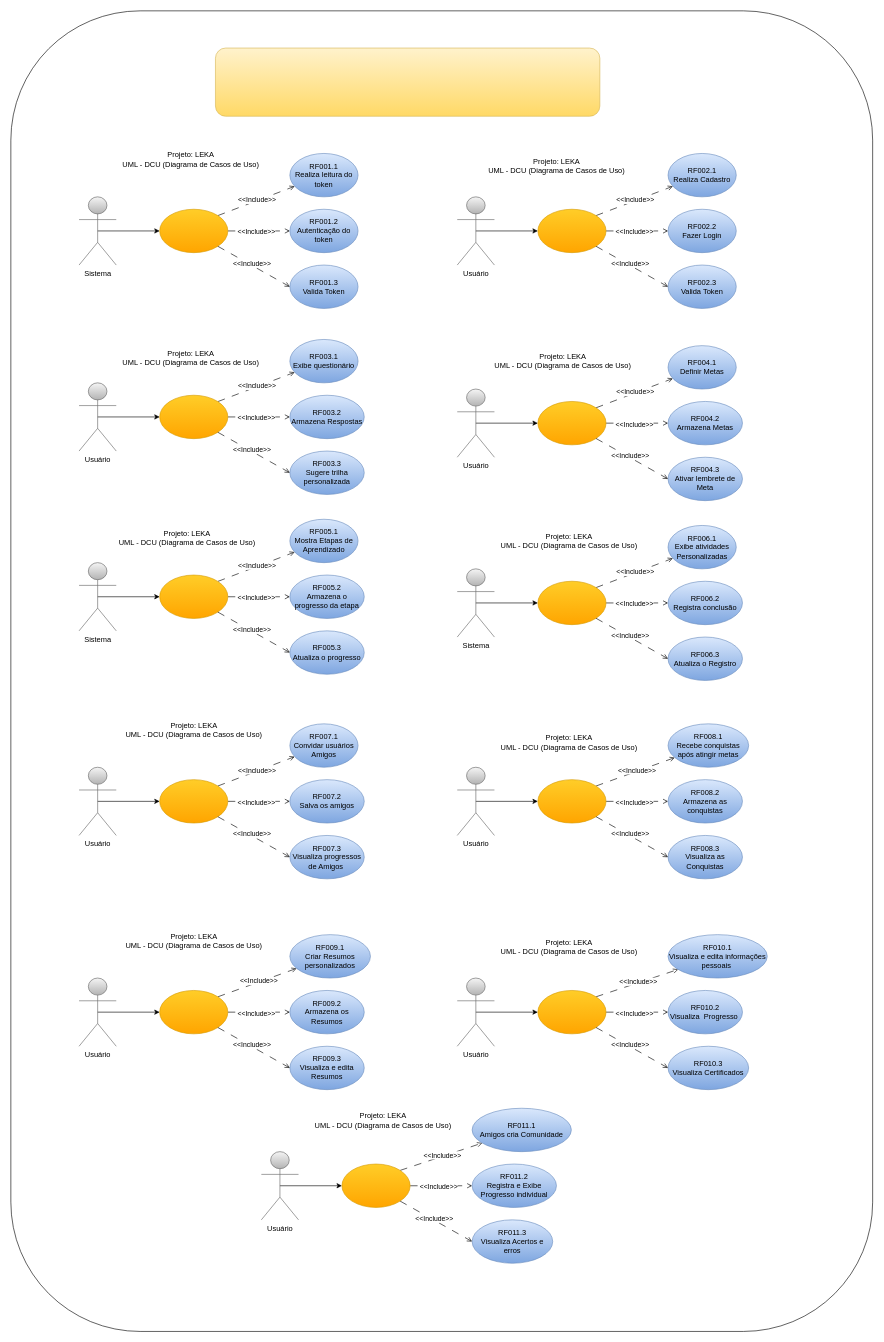
The diagram is 884 pixels wide and 1342 high, and some of its shapes have lost their labels. Each missing label, with the centre of its shape:
DIAGRAMA DE CASO DE USO LEKA: point 407,81
RF001 Gerar Token: point 193,231
RF002 Registar Login: point 571,231
RF003 Questionário Inicial: point 193,417
RF004 Define Metas: point 571,423
RF005 Progresso e Etapas: point 193,596
RF006 Atividades: point 571,603
RF007 Interação com Amigos: point 193,801
RF008 Conquistas e Recompensas: point 571,801
RF009 Resumos: point 193,1012
RF010 Gerenciamento de Perfil: point 571,1012
RF011 Comunidades: point 375,1185
